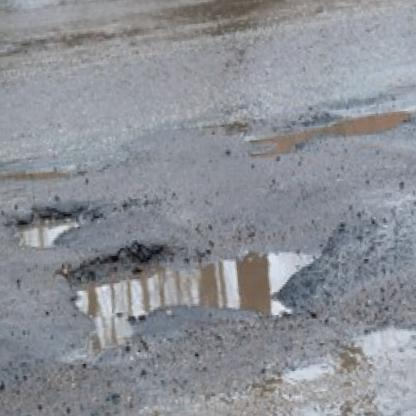pothole: (62, 224, 323, 351), (7, 199, 93, 251)
